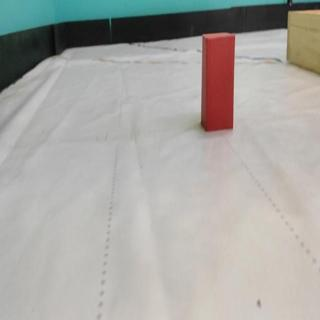redbox: (199, 33, 236, 132)
